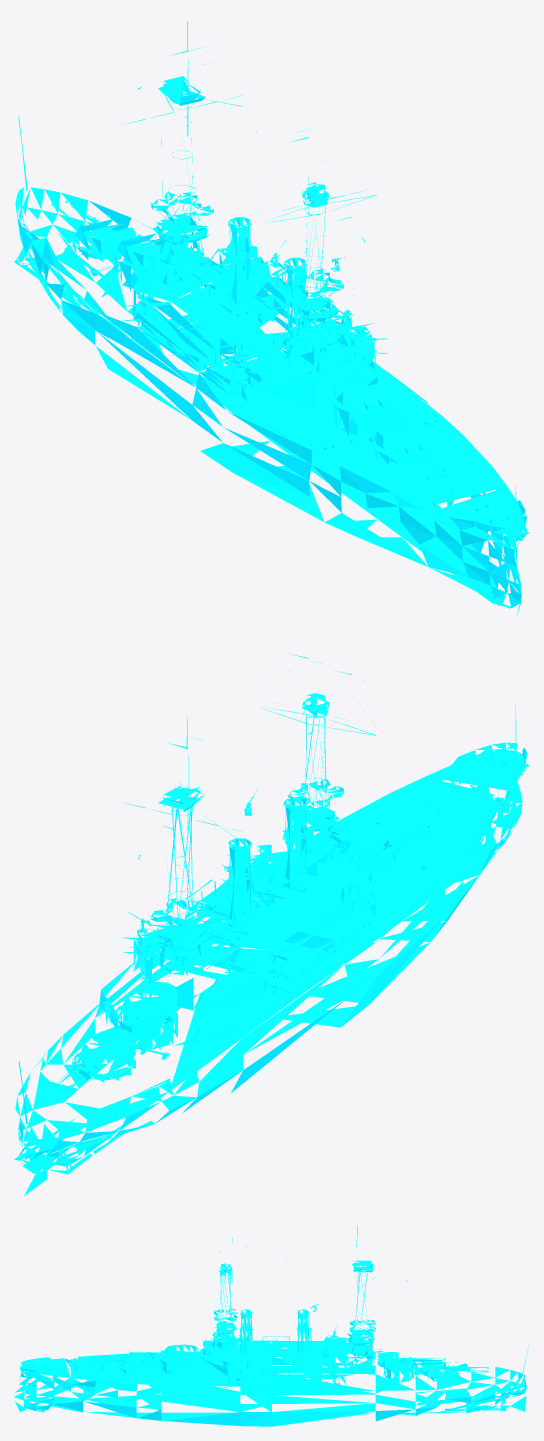
Rendered from Michigan.glb.
3 renders of one model, top to bottom at view 1: azimuth 30°, elevation 25°; view 2: azimuth 150°, elevation 25°; view 3: azimuth 270°, elevation 25°, orthographic. The views are drawn at different scales.
Size of the model in its own units: 1.82 by 3.71 by 9.26.
